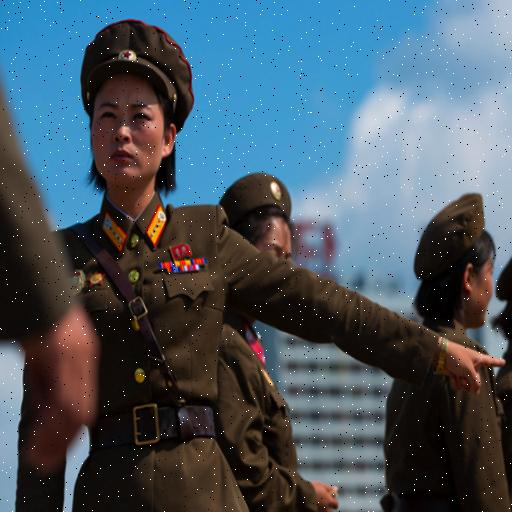north army: (34, 20, 468, 485)
